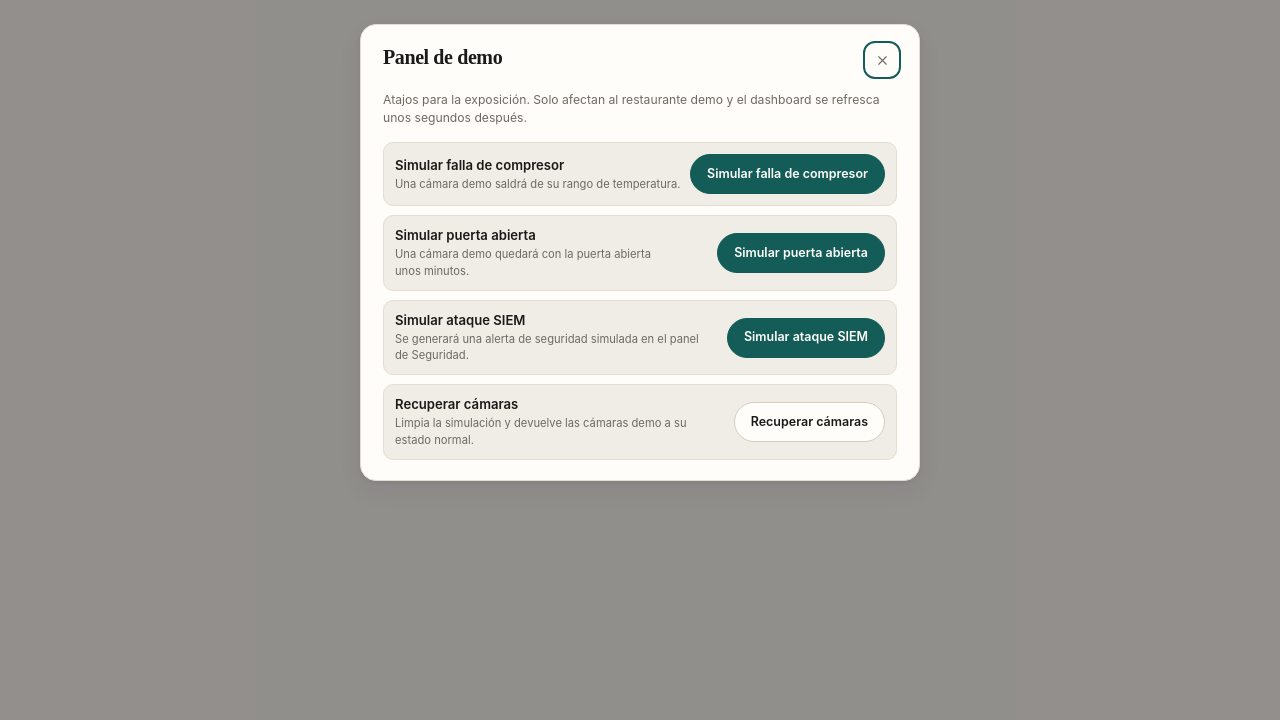
Scenario: PanelDemo › simula la puerta sin cámara explícita
Click the button "Simular puerta abierta".
click(801, 253)  # box top-left (717, 233), bottom-right (885, 273)
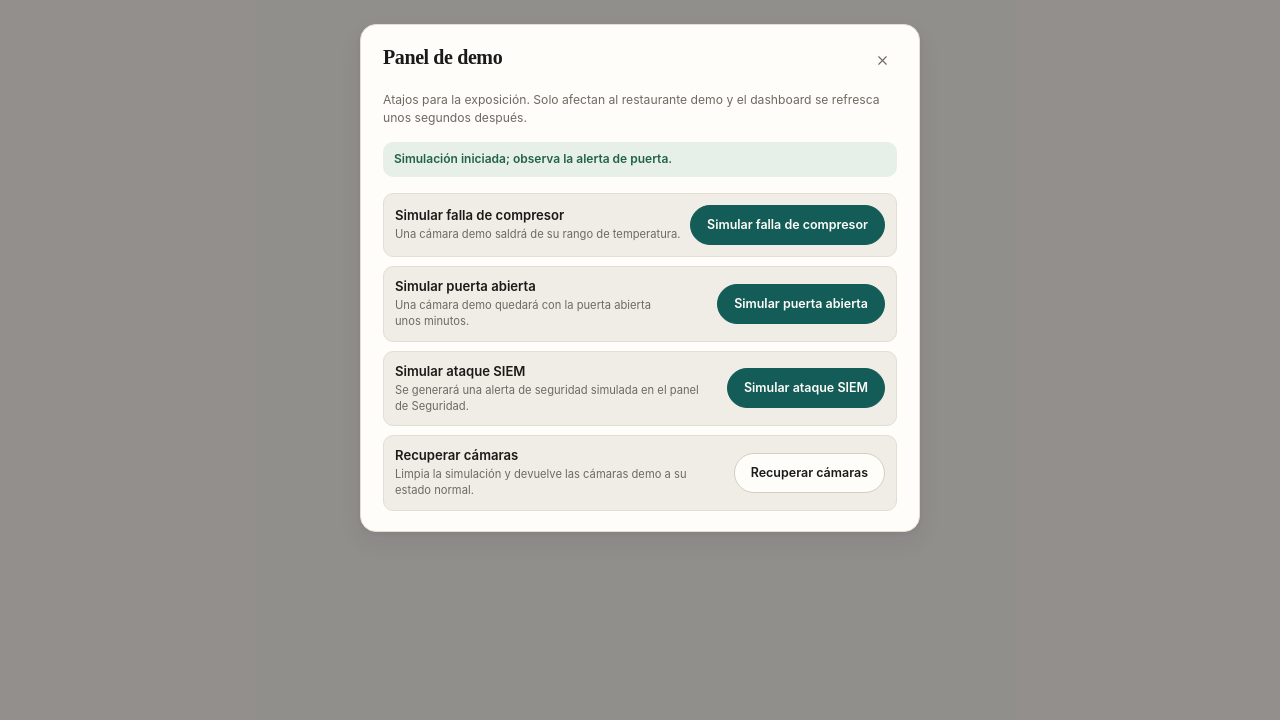
Expected: the text "Simulación iniciada; observa la alerta de puerta." is shown, top-left (383, 142), bottom-right (897, 177)
